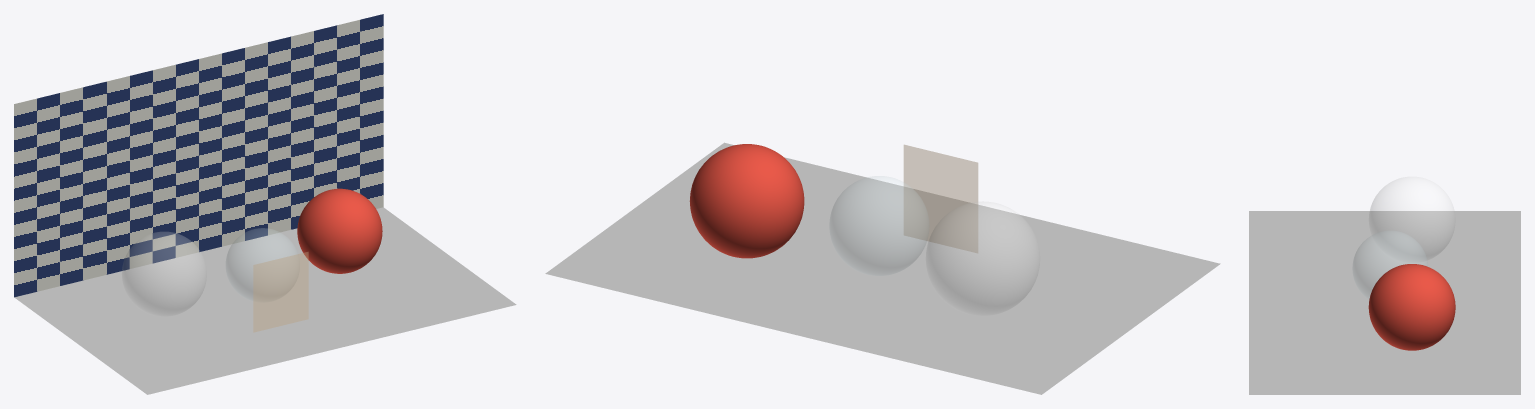
Rendered from v7_materials.gltf.
3 views of the same model, side by side, from view 1: azimuth 30°, elevation 25°; view 2: azimuth 150°, elevation 25°; view 3: azimuth 270°, elevation 25° (orthographic). The views are drawn at different scales.
Bounding box in the file's own units: 8 × 4 × 5.
Materials: 6 (1 with a texture image).
